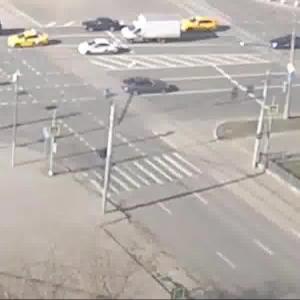car: (123, 12, 181, 43), (80, 13, 138, 40), (120, 75, 174, 95), (77, 37, 124, 55), (176, 12, 215, 33), (7, 32, 47, 46)
